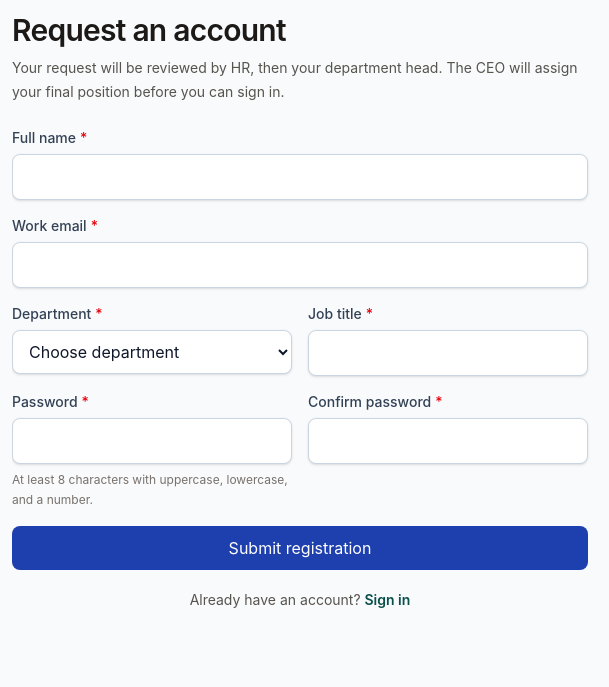
Test: RegisterPage validation › rejects mismatched passwords without creating an account
The image size is (609, 687).
Type "Taylor Morgan" into the field labelled "Full name*". click: (300, 177)
box: top-left (12, 154), bottom-right (588, 200)
Type "taylor@example.com" into the field labelled "Work email*". click: (300, 265)
box: top-left (12, 242), bottom-right (588, 288)
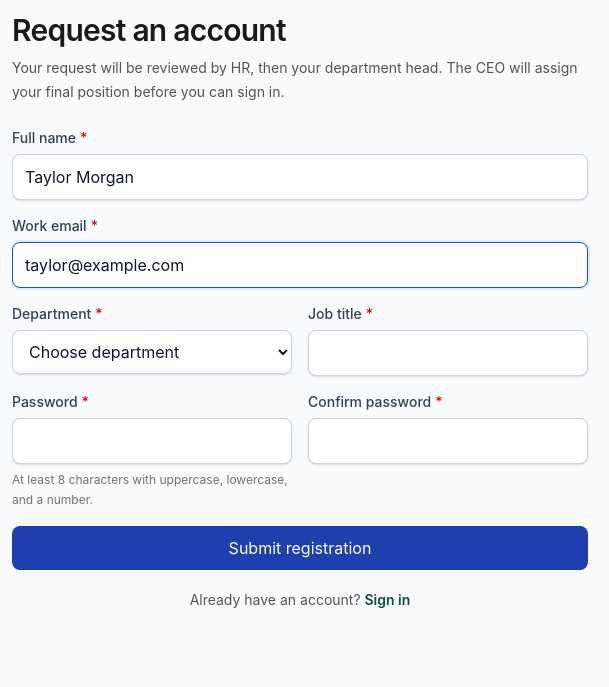
Select "Engineering" in the dropdown labelled "Department*". click: (152, 352)
box: top-left (12, 330), bottom-right (292, 374)
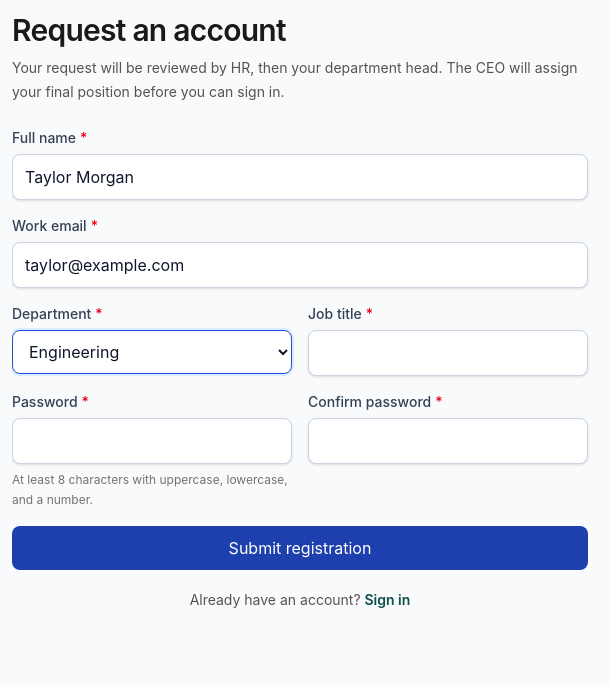
Type "Analyst" into the field labelled "Job title*". click: (448, 353)
box: top-left (308, 330), bottom-right (588, 376)
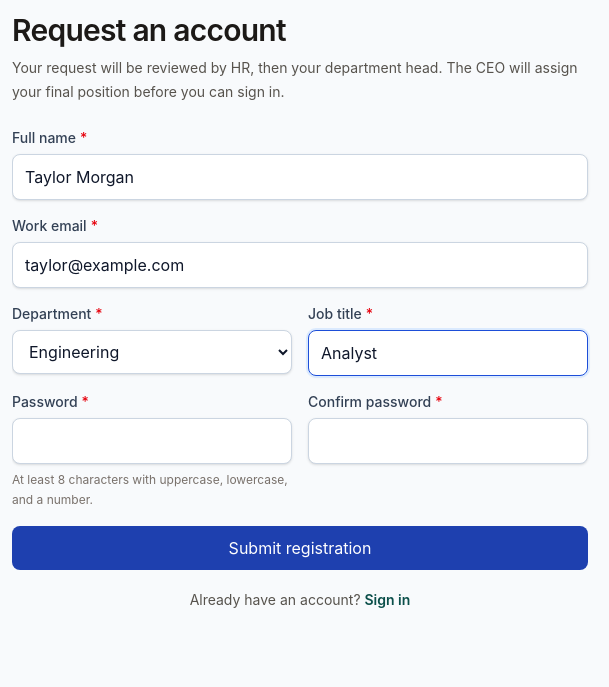
Type "StrongPass1" into the password field labelled "Password*". click: (152, 441)
box: top-left (12, 418), bottom-right (292, 464)
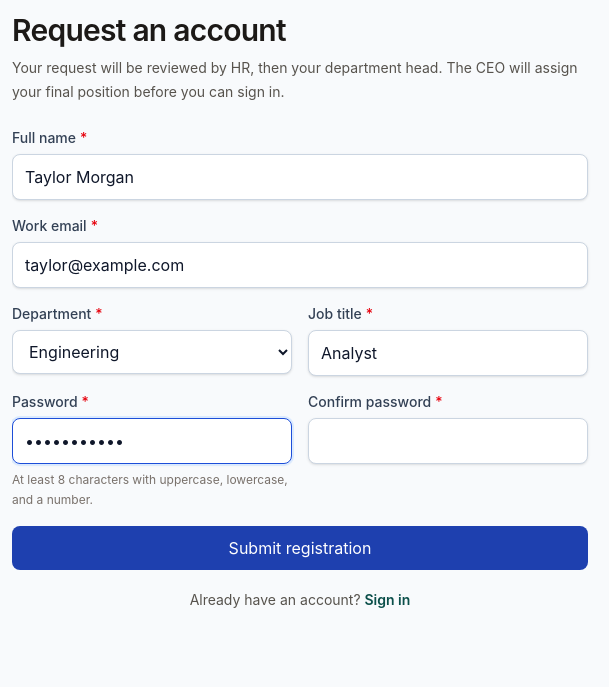
Type "DifferentPass2" into the password field labelled "Confirm password*". click: (448, 441)
box: top-left (308, 418), bottom-right (588, 464)
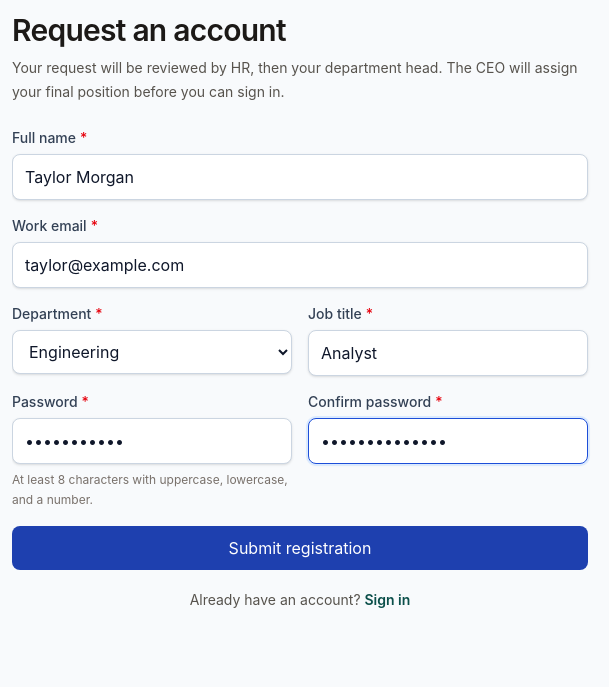
Click the button "Submit registration". click: (300, 548)
box: top-left (12, 526), bottom-right (588, 570)
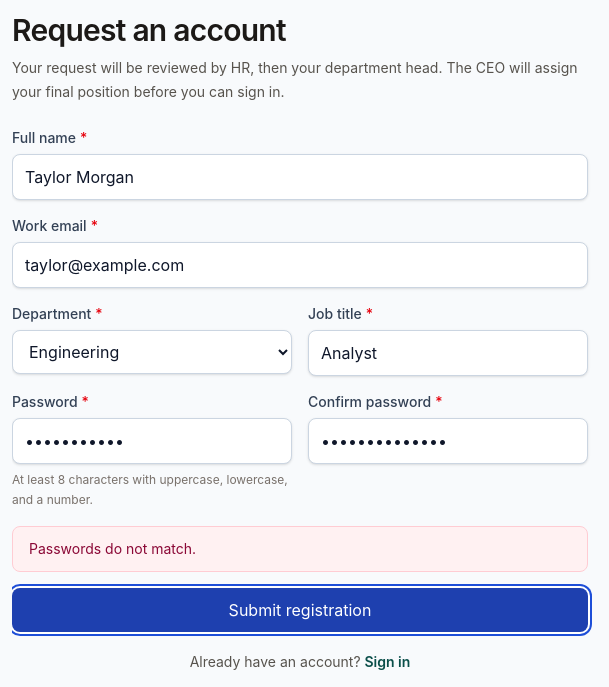
Expected: the message reads "Passwords do not match.", top-left (29, 540), bottom-right (196, 557)
